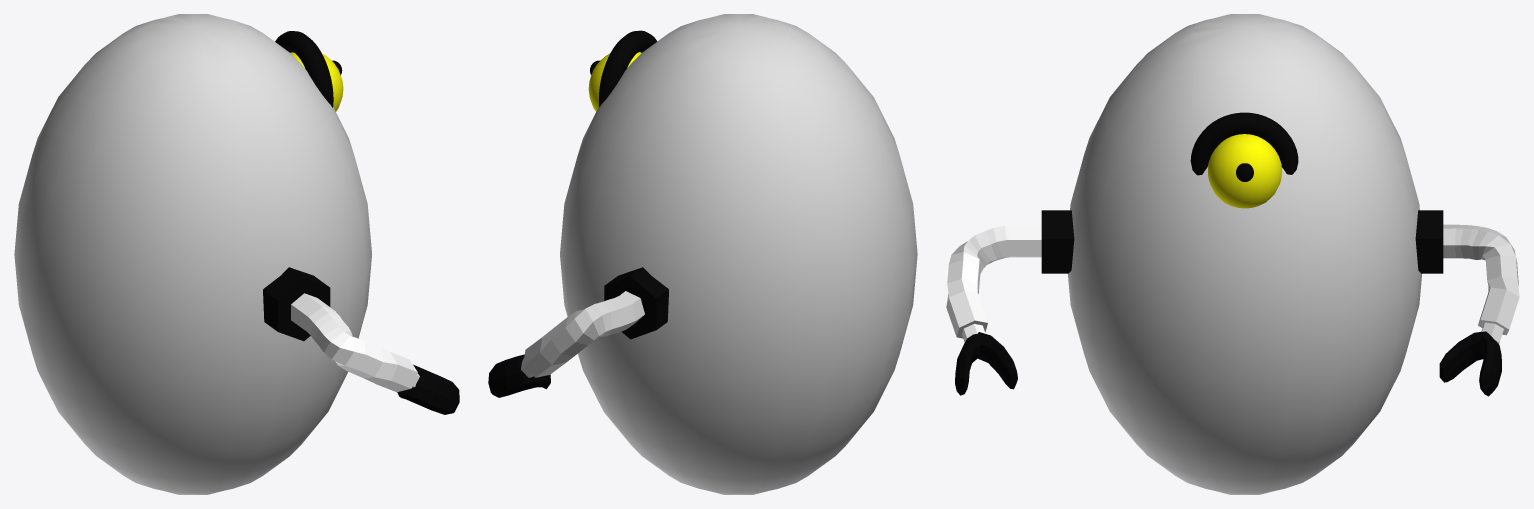
The model's file is New Robot Edited.fbx.
The picture shows the model from 3 angles, left to right: view 1: azimuth 30°, elevation 25°; view 2: azimuth 150°, elevation 25°; view 3: azimuth 270°, elevation 25°; orthographic projection.
Visible parts, largest first — view 1: Cylinder.003; view 2: Cylinder.003; view 3: Cylinder.003.
Part boxes in pixels (left/top/right/bottom): Cylinder.003: left=14, top=14, right=459, bottom=494; Cylinder.003: left=488, top=14, right=917, bottom=494; Cylinder.003: left=946, top=14, right=1519, bottom=494.
Size of the model in its own units: 185 by 261 by 296.
